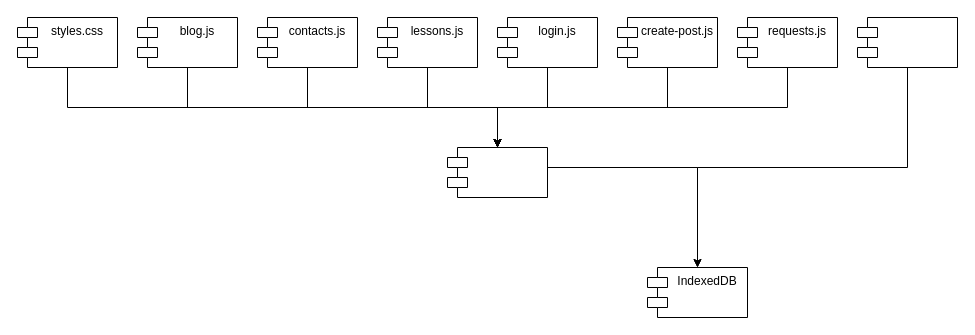
Some shapes in this 975 by 335 pixel diagram are drawn without their labels. Here are the shapes that lost their labels. From the top down, the centre of each, then its label:
point (907, 42): main.js
point (497, 172): data-service.js
